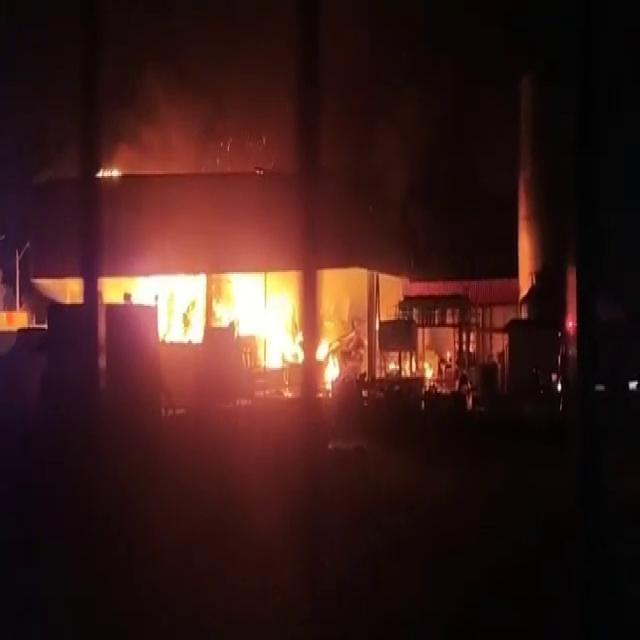Fire: (129, 272, 304, 372), (320, 268, 365, 381), (419, 348, 438, 381), (94, 165, 124, 178)
Smoke: (92, 28, 291, 169)
